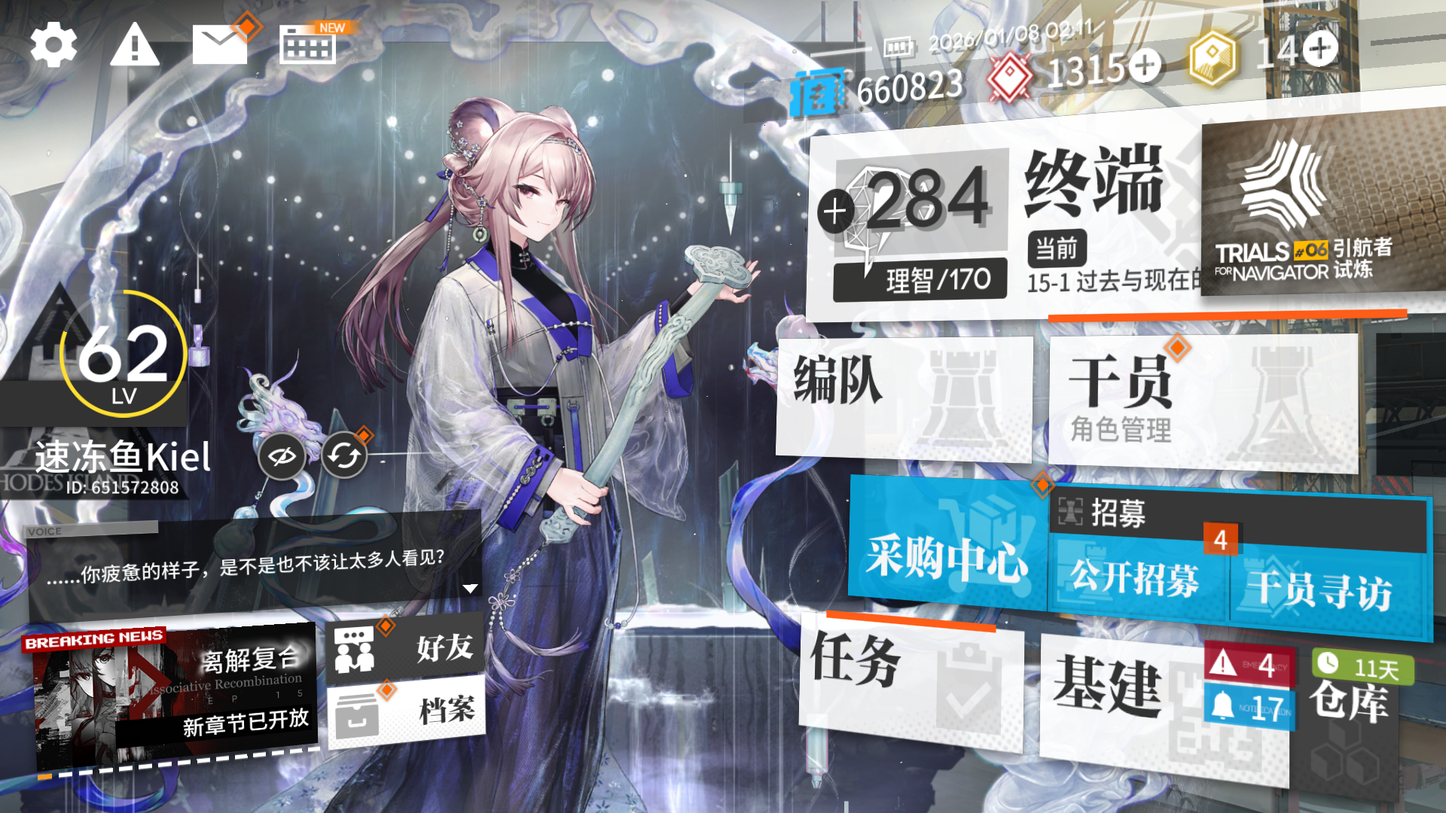home_button: (1021, 132, 1184, 233)
infrastructure_button: (1039, 638, 1293, 774)
